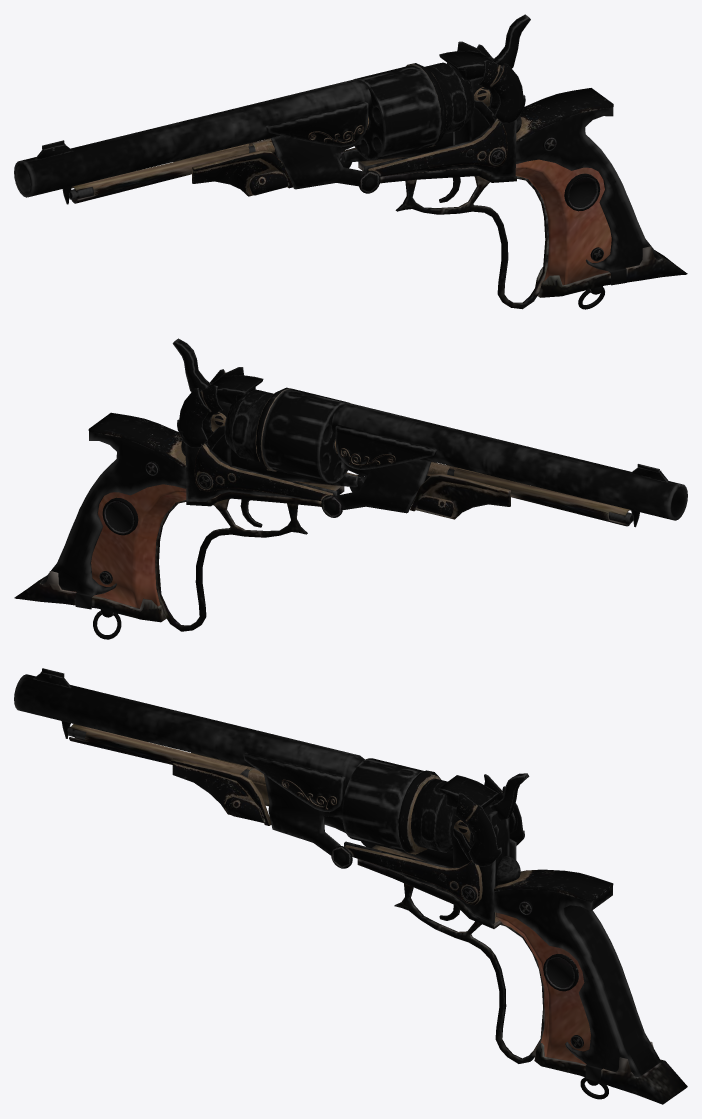
File: soul-armament-gun.glb
3 views of the same model, one above another, from view 1: azimuth 30°, elevation 25°; view 2: azimuth 150°, elevation 25°; view 3: azimuth 330°, elevation 25° (orthographic).
Parts seen in each view (by area): view 1: Revolver Westwood-007, Revolver Westwood-027, Revolver Westwood-002, Revolver Westwood-001, Revolver Westwood-008, Revolver Westwood-057, Revolver Westwood-019, Revolver Westwood-039, Revolver Westwood-009, Revolver Westwood-028, Revolver Westwood-029, Revolver Westwood-013 (+12 smaller); view 2: Revolver Westwood-007, Revolver Westwood-027, Revolver Westwood-002, Revolver Westwood-001, Revolver Westwood-025, Revolver Westwood-057, Revolver Westwood-020, Revolver Westwood-044, Revolver Westwood-009, Revolver Westwood-032, Revolver Westwood-028, Revolver Westwood-013 (+12 smaller); view 3: Revolver Westwood-007, Revolver Westwood-027, Revolver Westwood-001, Revolver Westwood-002, Revolver Westwood-013, Revolver Westwood-008, Revolver Westwood-019, Revolver Westwood-039, Revolver Westwood-005, Revolver Westwood-009, Revolver Westwood-057, Revolver Westwood-029 (+10 smaller).
Part boxes in pixels (left/top/right/bottom): Revolver Westwood-007: left=14, top=80, right=371, bottom=197; Revolver Westwood-027: left=516, top=107, right=661, bottom=285; Revolver Westwood-002: left=515, top=159, right=626, bottom=285; Revolver Westwood-001: left=353, top=65, right=440, bottom=160; Revolver Westwood-008: left=271, top=135, right=365, bottom=189; Revolver Westwood-057: left=395, top=175, right=548, bottom=309; Revolver Westwood-019: left=266, top=101, right=368, bottom=147; Revolver Westwood-039: left=368, top=118, right=507, bottom=176; Revolver Westwood-009: left=71, top=145, right=249, bottom=203; Revolver Westwood-028: left=516, top=88, right=613, bottom=143; Revolver Westwood-029: left=192, top=150, right=293, bottom=196; Revolver Westwood-013: left=535, top=246, right=687, bottom=297; Revolver Westwood-007: left=331, top=403, right=687, bottom=520; Revolver Westwood-027: left=41, top=432, right=186, bottom=609; Revolver Westwood-002: left=71, top=484, right=186, bottom=608; Revolver Westwood-001: left=262, top=388, right=349, bottom=483; Revolver Westwood-025: left=336, top=459, right=431, bottom=513; Revolver Westwood-057: left=155, top=498, right=307, bottom=631; Revolver Westwood-020: left=335, top=425, right=437, bottom=469; Revolver Westwood-044: left=194, top=443, right=333, bottom=501; Revolver Westwood-009: left=454, top=468, right=630, bottom=526; Revolver Westwood-032: left=410, top=473, right=510, bottom=519; Revolver Westwood-028: left=88, top=412, right=186, bottom=468; Revolver Westwood-013: left=14, top=571, right=166, bottom=622; Revolver Westwood-007: left=14, top=674, right=364, bottom=789; Revolver Westwood-027: left=494, top=887, right=661, bottom=1082; Revolver Westwood-001: left=342, top=758, right=424, bottom=851; Revolver Westwood-002: left=496, top=912, right=603, bottom=1068; Revolver Westwood-013: left=534, top=1041, right=687, bottom=1104; Revolver Westwood-008: left=264, top=774, right=345, bottom=855; Revolver Westwood-019: left=243, top=752, right=345, bottom=812; Revolver Westwood-039: left=344, top=845, right=482, bottom=905; Revolver Westwood-005: left=411, top=778, right=452, bottom=852; Revolver Westwood-009: left=69, top=724, right=247, bottom=774; Revolver Westwood-057: left=394, top=883, right=544, bottom=1063; Revolver Westwood-029: left=171, top=758, right=271, bottom=825.
Size of the model in its own units: 0.1 by 0.0457 by 0.0114.
1 material, 1 textured.
